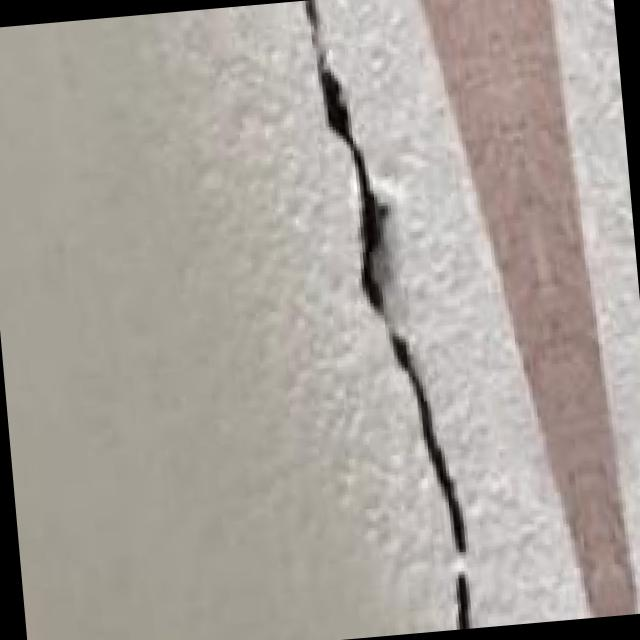crack: (260, 0, 507, 638)
